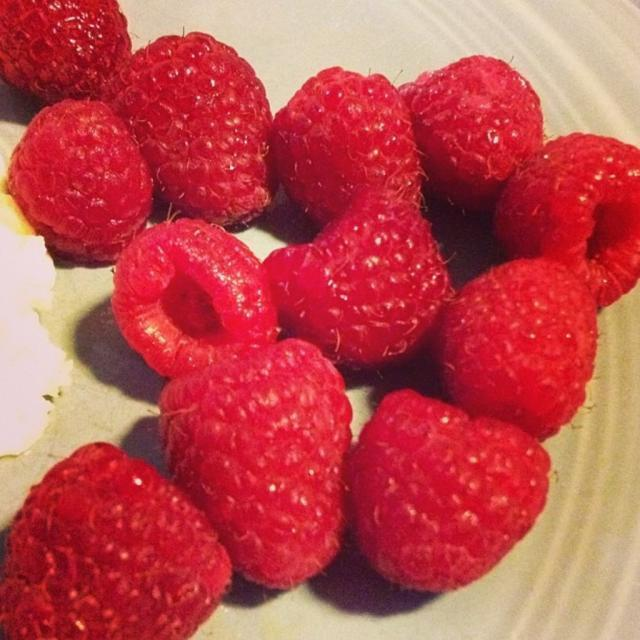Strawberry: (158, 336, 354, 592), (0, 440, 232, 639), (346, 388, 552, 594), (261, 179, 454, 369), (112, 29, 276, 229), (433, 256, 599, 442), (110, 215, 281, 378), (492, 131, 640, 309), (268, 64, 424, 228), (6, 98, 154, 264), (398, 53, 544, 211), (0, 0, 132, 104)
